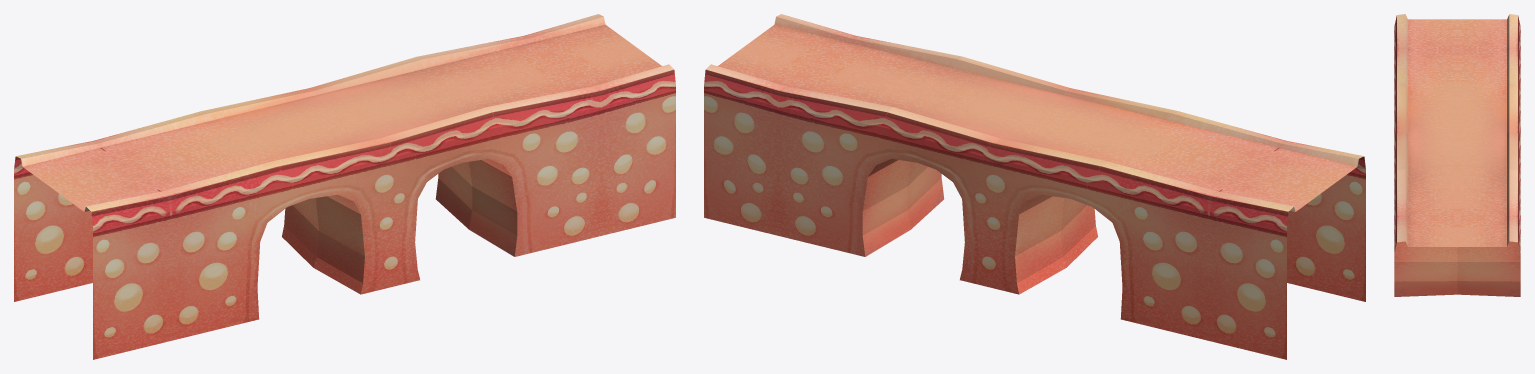
The model's file is common_obj_179.fbx.
3 renders of one model, left to right at view 1: azimuth 30°, elevation 25°; view 2: azimuth 150°, elevation 25°; view 3: azimuth 270°, elevation 25°, orthographic. The views are drawn at different scales.
Visible parts, largest first — view 1: common_obj_179; view 2: common_obj_179; view 3: common_obj_179.
Part boxes in pixels (x1,y1,x2,y2): common_obj_179: (14,14,675,359); common_obj_179: (704,14,1365,359); common_obj_179: (1394,14,1520,296).
Bounding box in the file's own units: 1277 × 314 × 300.
